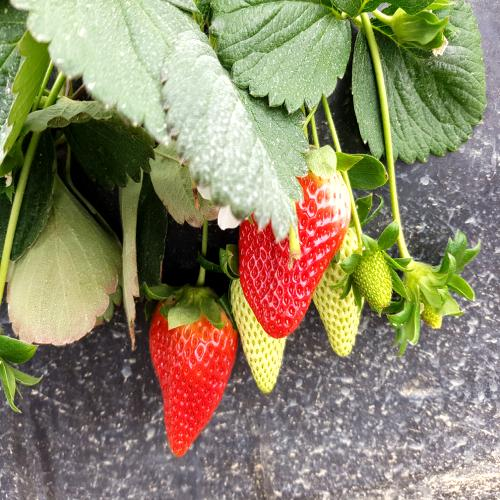ripe: (151, 290, 242, 469)
